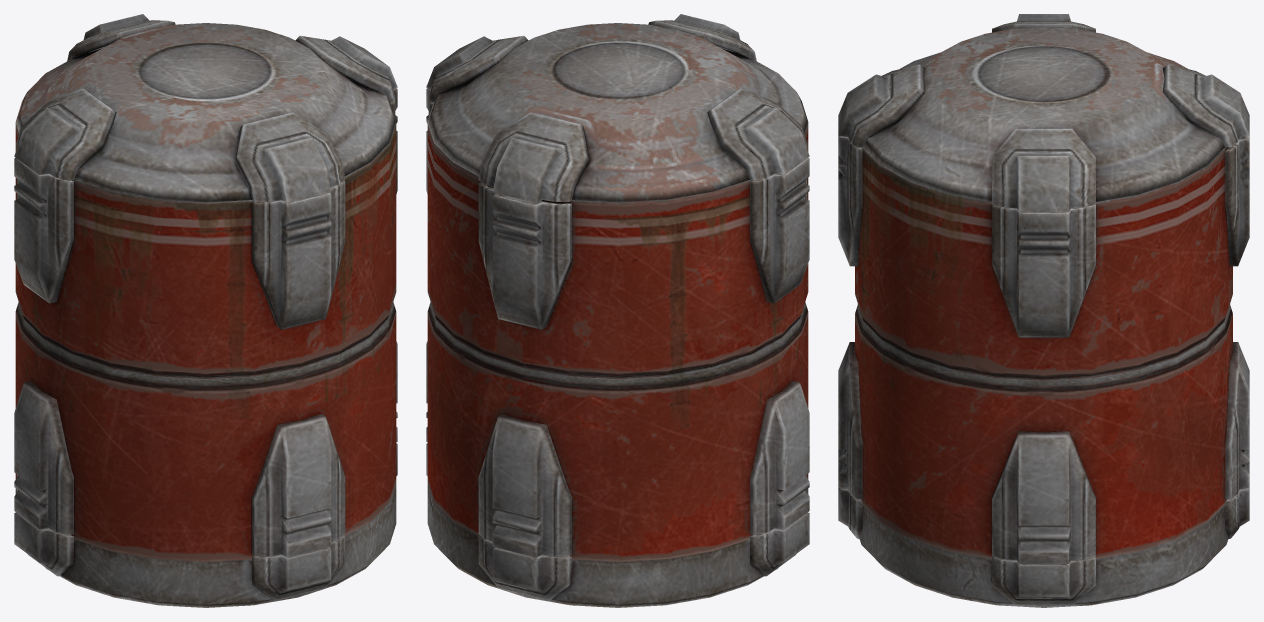
Rendered from prop_barrel.dae.
The picture shows the model from 3 angles, left to right: view 1: azimuth 30°, elevation 25°; view 2: azimuth 150°, elevation 25°; view 3: azimuth 270°, elevation 25°; orthographic projection.
Visible parts, largest first — view 1: prop_barrel; view 2: prop_barrel; view 3: prop_barrel.
Boxes of the visible parts, <box> form: prop_barrel: <box>14,14,397,607</box>; prop_barrel: <box>426,14,809,607</box>; prop_barrel: <box>838,14,1249,607</box>.
Bounding box in the file's own units: 0.9847 × 1.21 × 0.9847.
